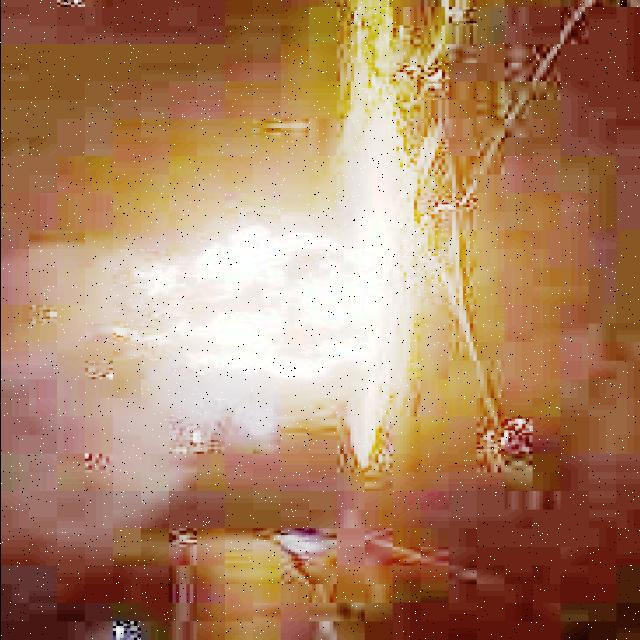api: (116, 201, 400, 385)
